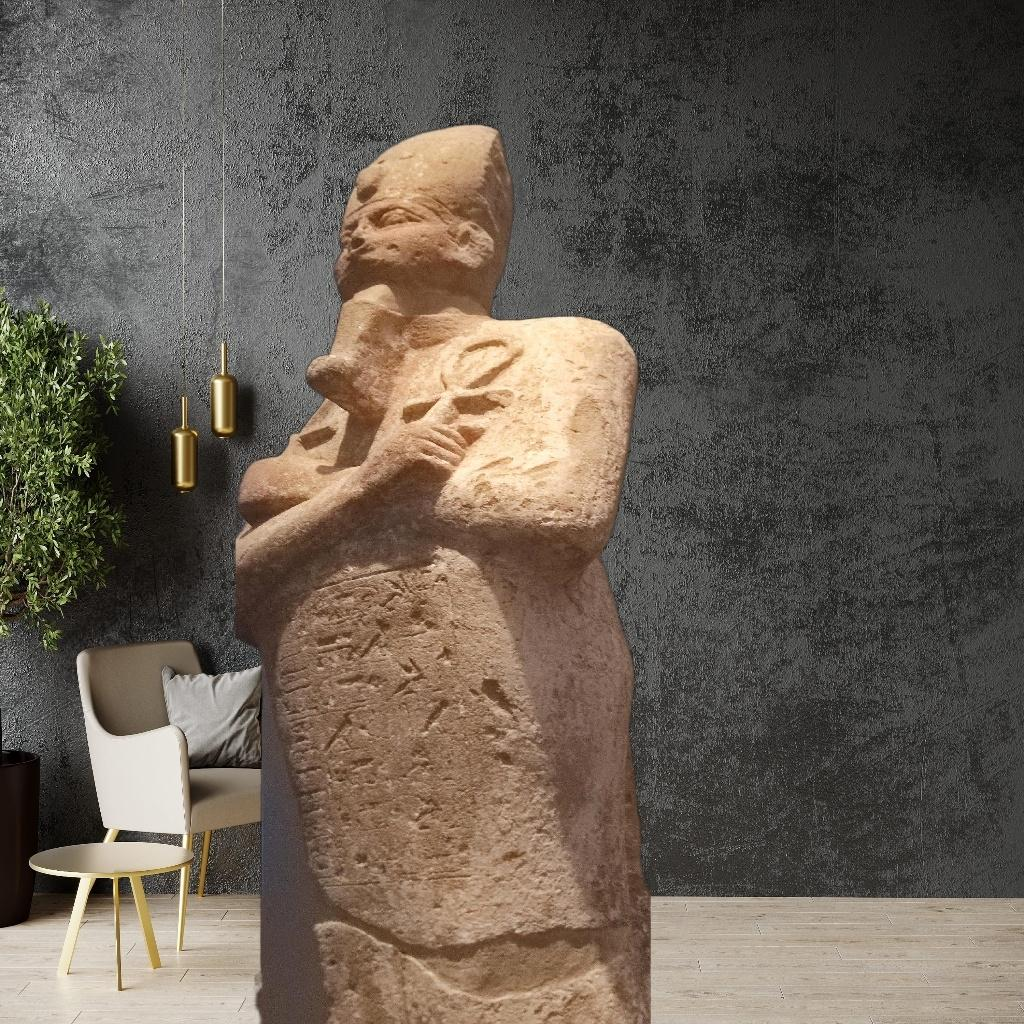Statue of Mentuhotep II: (236, 105, 650, 1024)
